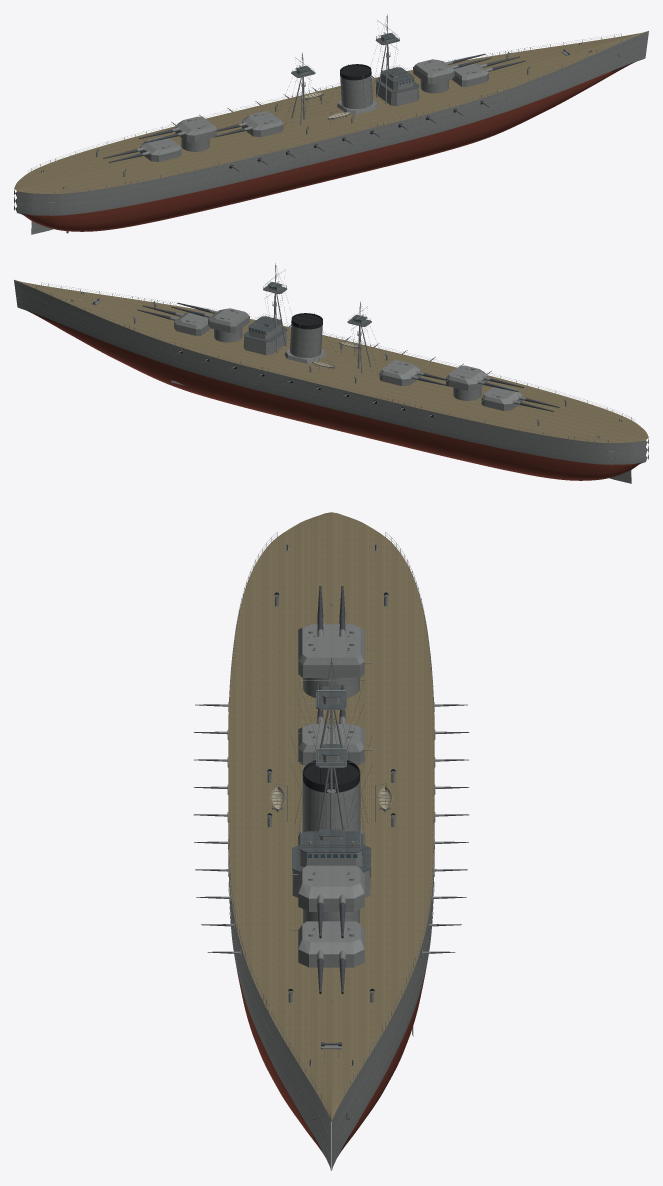
File: tosa.glb
The picture shows the model from 3 angles, top to bottom: view 1: azimuth 30°, elevation 25°; view 2: azimuth 150°, elevation 25°; view 3: azimuth 270°, elevation 25°; orthographic projection. The views are drawn at different scales.
Parts seen in each view (by area): view 1: Tosa class; view 2: Tosa class; view 3: Tosa class.
Part boxes in pixels (bbox=[...]): Tosa class: bbox=[14, 14, 648, 234]; Tosa class: bbox=[14, 263, 648, 483]; Tosa class: bbox=[193, 512, 469, 1170].
Size of the model in its own units: 226 by 46.27 by 42.52.
Materials: 9 (8 with a texture image).
